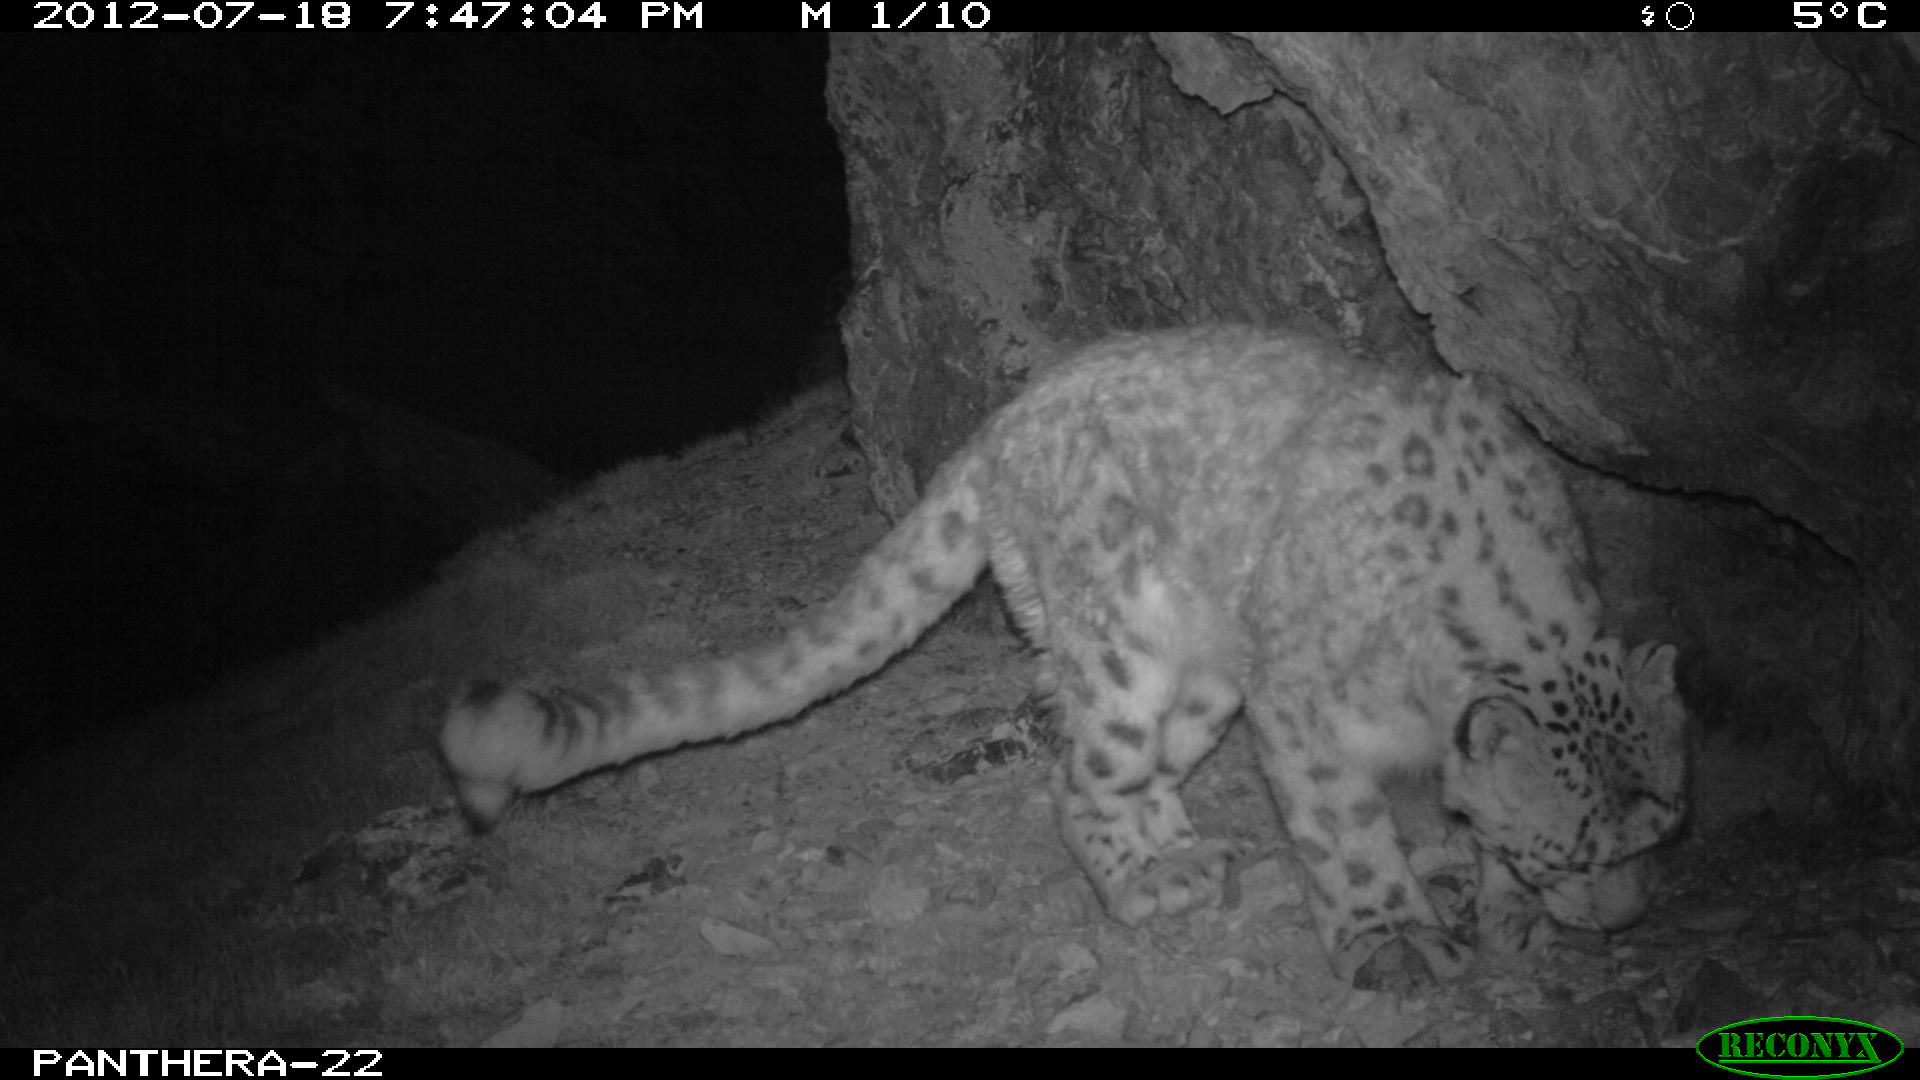Leopard: (398, 291, 1724, 1017)
